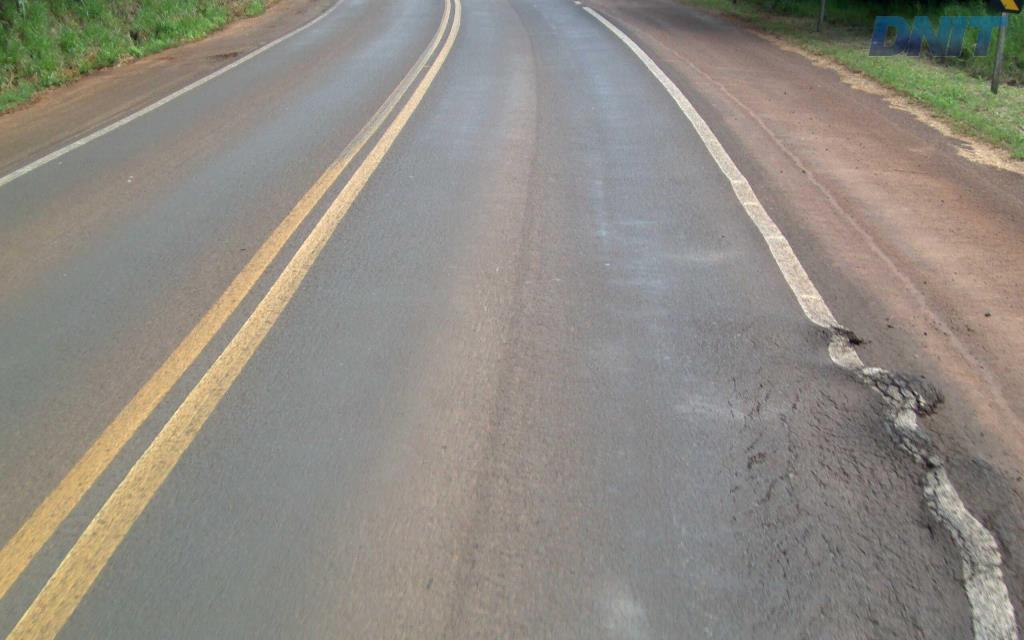crack: (767, 540, 789, 580), (857, 494, 891, 519)
